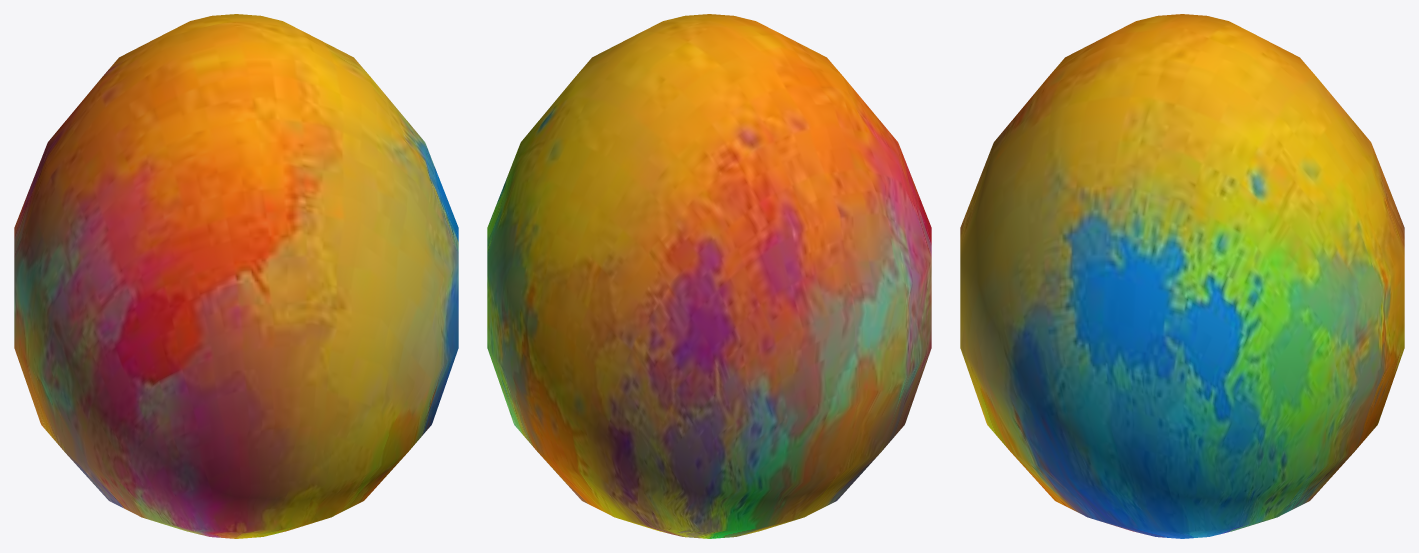
The model's file is dan1.fbx.
3 views of the same model, side by side, from view 1: azimuth 30°, elevation 25°; view 2: azimuth 150°, elevation 25°; view 3: azimuth 270°, elevation 25° (orthographic).
Visible parts, largest first — view 1: Sphere001; view 2: Sphere001; view 3: Sphere001.
Part boxes in pixels (left/top/right/bottom): Sphere001: left=14, top=14, right=458, bottom=538; Sphere001: left=487, top=14, right=931, bottom=538; Sphere001: left=960, top=14, right=1404, bottom=538.
Size of the model in its own units: 206 by 247 by 203.
